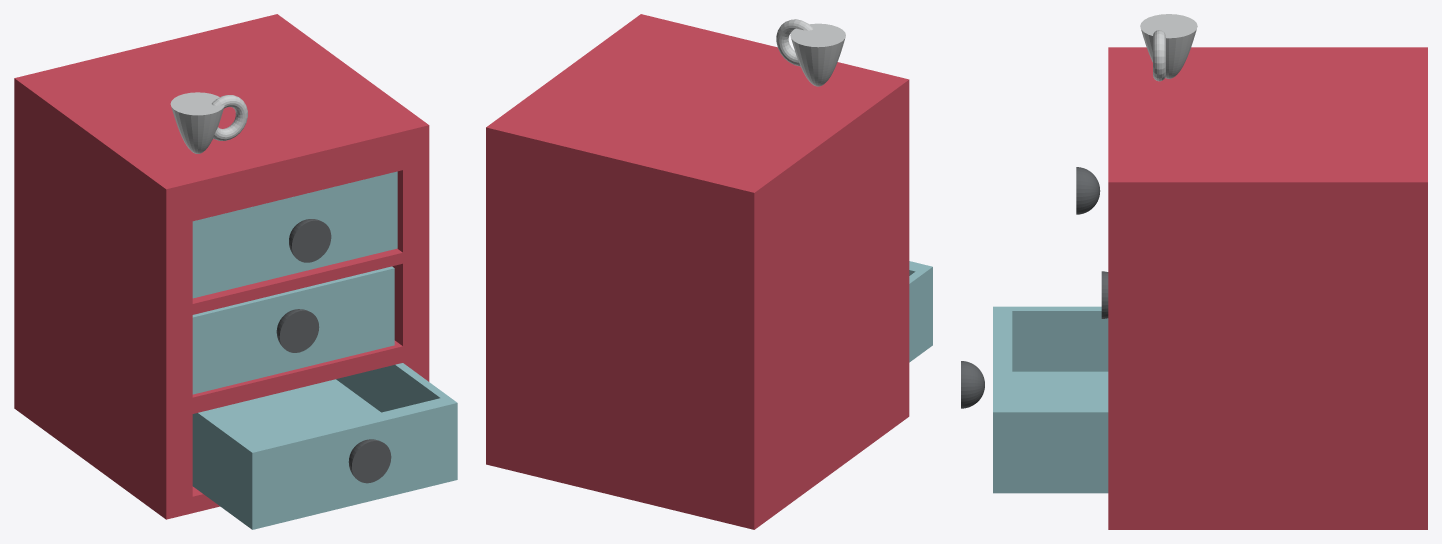
The model's file is Terrific Albar-Hillar.glb.
The picture shows the model from 3 angles, left to right: view 1: azimuth 30°, elevation 25°; view 2: azimuth 150°, elevation 25°; view 3: azimuth 270°, elevation 25°; orthographic projection. The views are drawn at different scales.
Visible parts, largest first — view 1: Mesh_Mesh_head_geo.001_lambert2SG.001; view 2: Mesh_Mesh_head_geo.001_lambert2SG.001; view 3: Mesh_Mesh_head_geo.001_lambert2SG.001.
Boxes of the visible parts, bbox=[...] form: Mesh_Mesh_head_geo.001_lambert2SG.001: bbox=[14, 14, 457, 529]; Mesh_Mesh_head_geo.001_lambert2SG.001: bbox=[486, 14, 932, 529]; Mesh_Mesh_head_geo.001_lambert2SG.001: bbox=[961, 14, 1427, 529].
Size of the model in its own units: 50 by 70 by 73.
